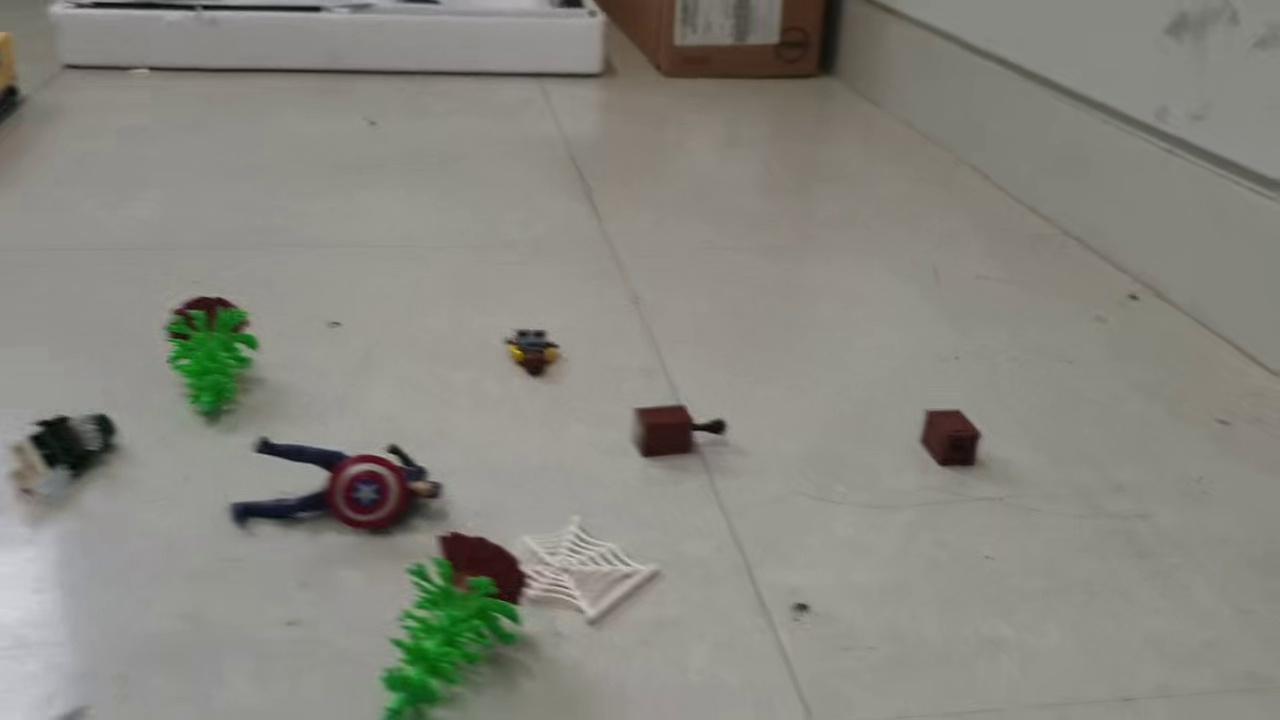box: (627, 401, 696, 462), (918, 406, 983, 470)
people: (226, 431, 446, 540), (10, 409, 120, 498), (501, 329, 565, 380)
tree: (380, 531, 528, 720), (162, 294, 264, 422)
web: (477, 512, 663, 624)
